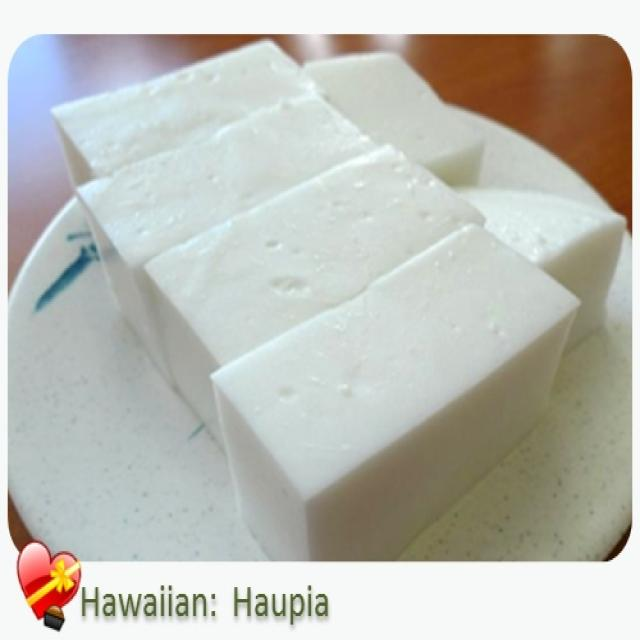蛋糕甜品: (44, 49, 624, 565)
